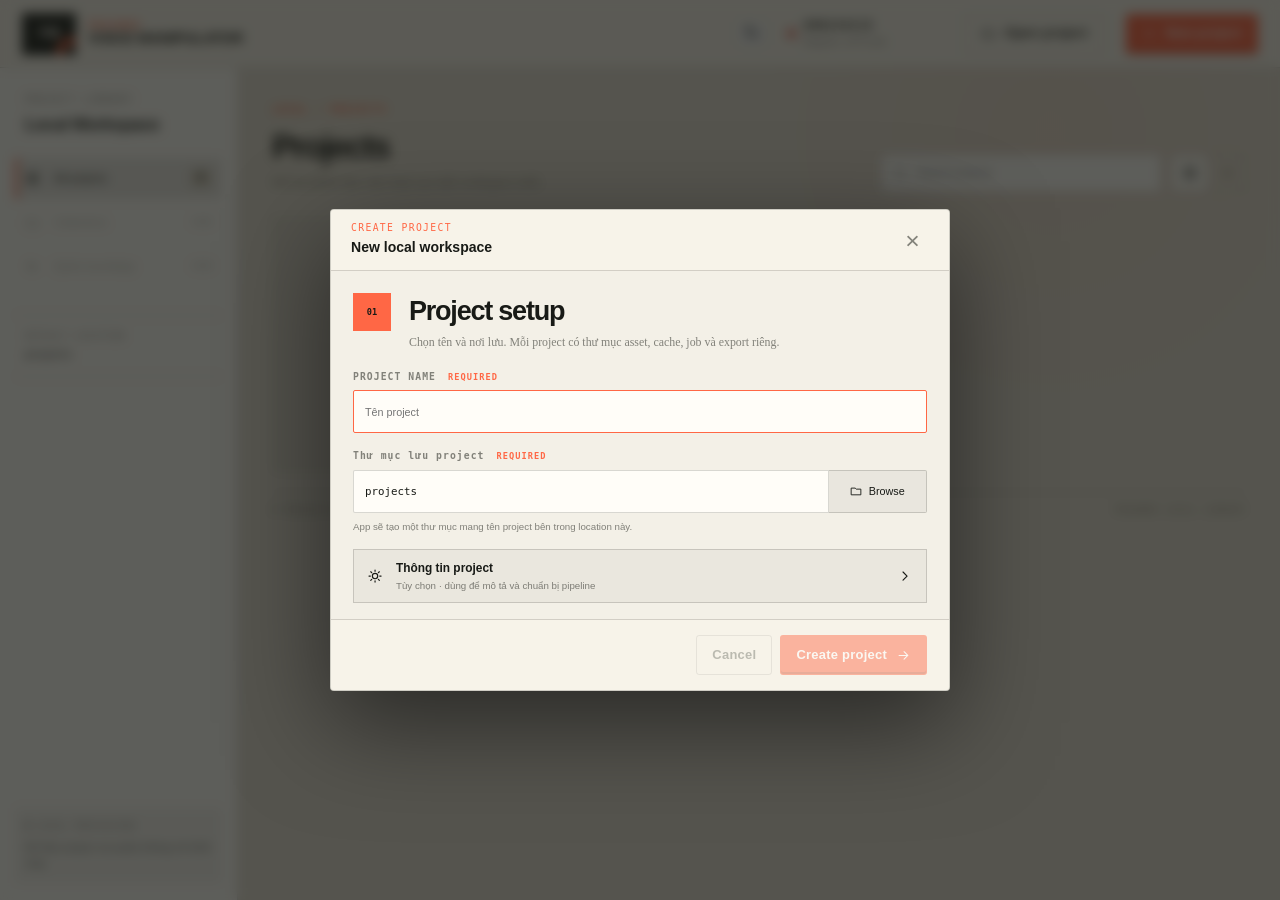
Test case: ProjectHub › asks for a storage location and keeps technical metadata optional
Expected: the field labelled "Thư mục lưu project" holds "projects", x1=353 y1=470 x2=829 y2=513
Expected: the dropdown labelled "Ngôn ngữ" is not shown
Click the button "Thông tin project": (444, 568) x1=353 y1=549 x2=927 y2=603
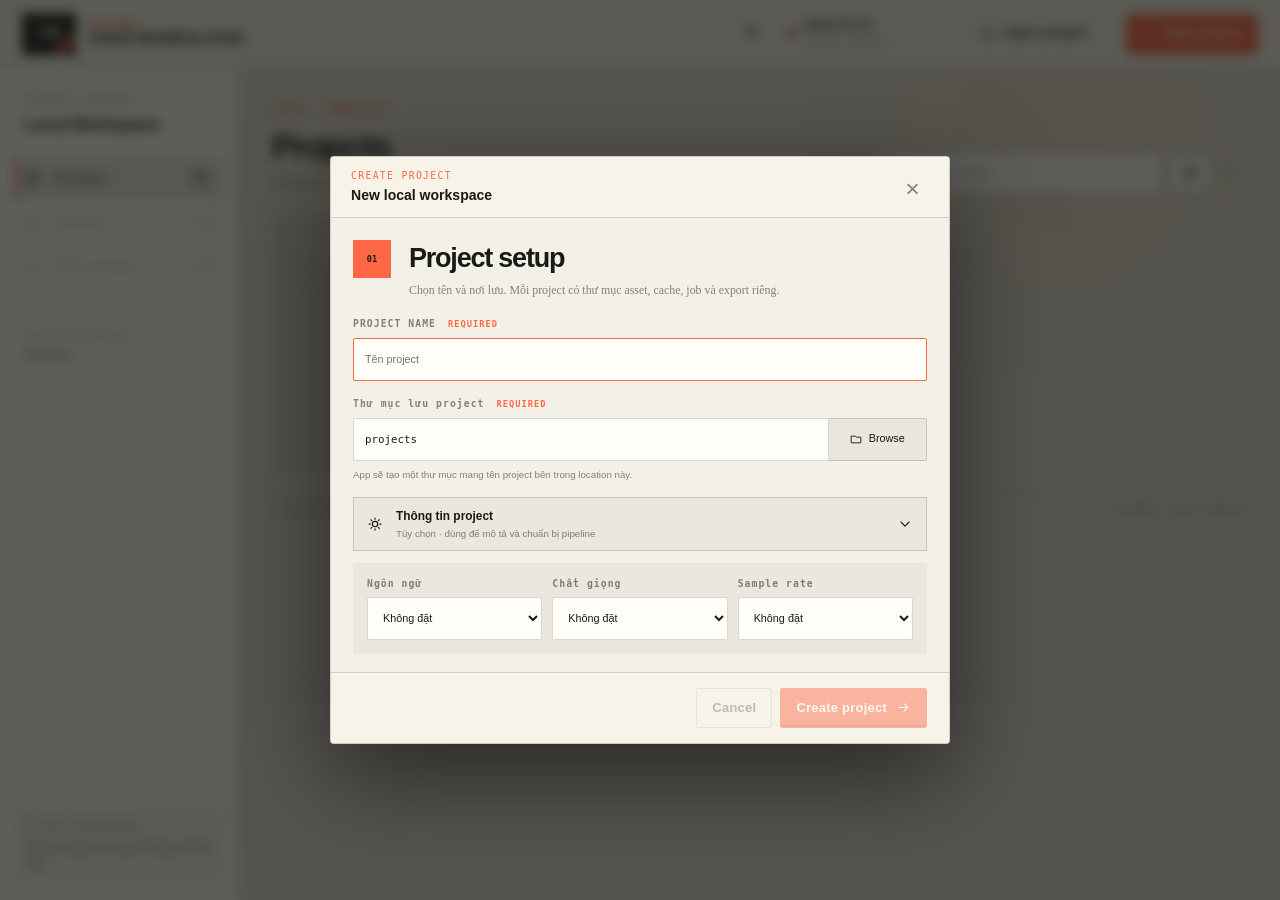
Now the dropdown labelled "Ngôn ngữ" is shown, box x1=367 y1=597 x2=542 y2=640
Now the dropdown labelled "Chất giọng" is shown, box x1=552 y1=597 x2=728 y2=640
Now the dropdown labelled "Sample rate" is shown, box x1=738 y1=597 x2=913 y2=640
